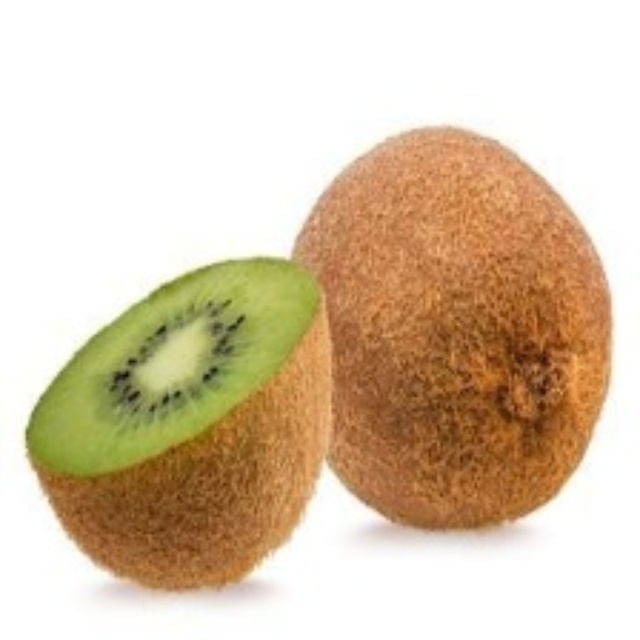kiwi: (289, 128, 615, 528), (33, 249, 351, 603)
